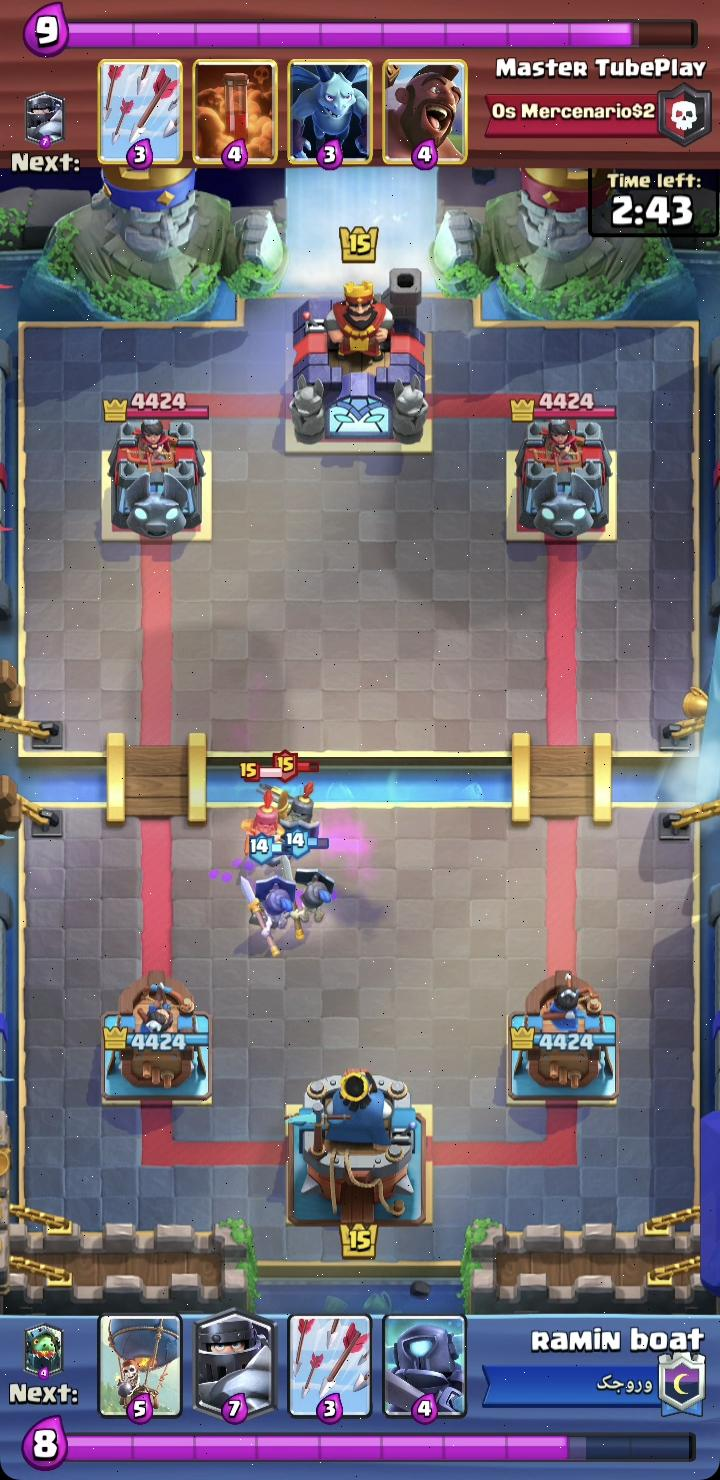EGuard: (242, 771, 289, 840), (277, 754, 318, 833)
EKingTower: (290, 282, 429, 445)
EnemyPrincessTower: (516, 418, 611, 540), (110, 418, 204, 540)
OGuard: (248, 877, 294, 956), (295, 869, 335, 939)
OwnKingTower: (286, 1070, 431, 1228)
OwnPrincessTower: (508, 970, 616, 1103), (104, 972, 210, 1102)
